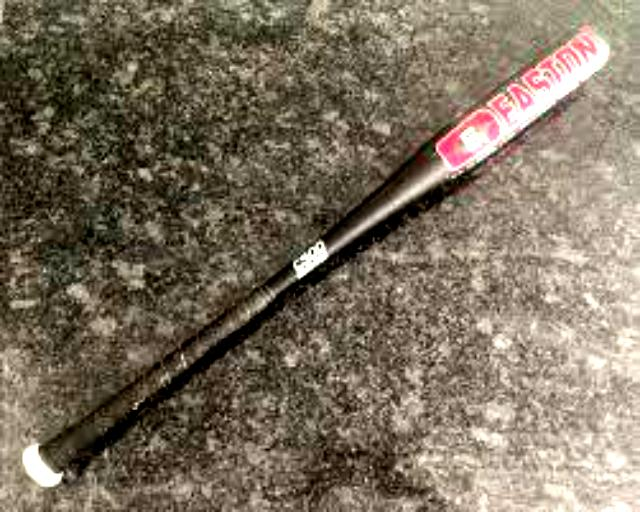baseball bat: (21, 21, 610, 487)
